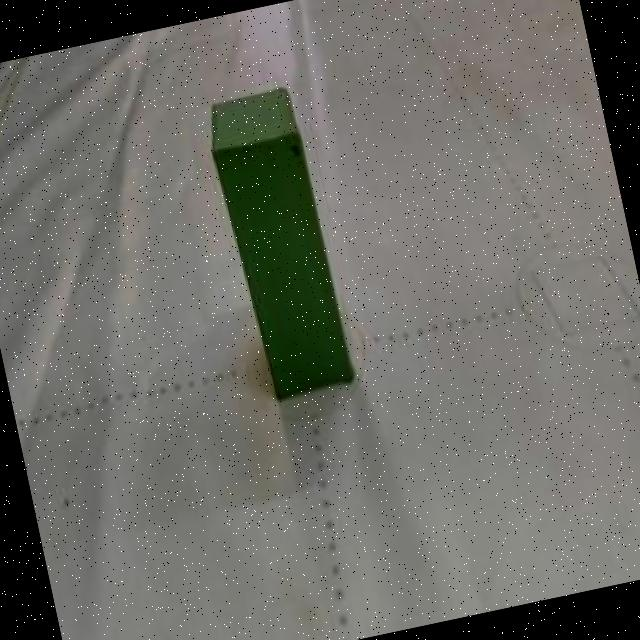greenbox: (195, 73, 358, 403)
